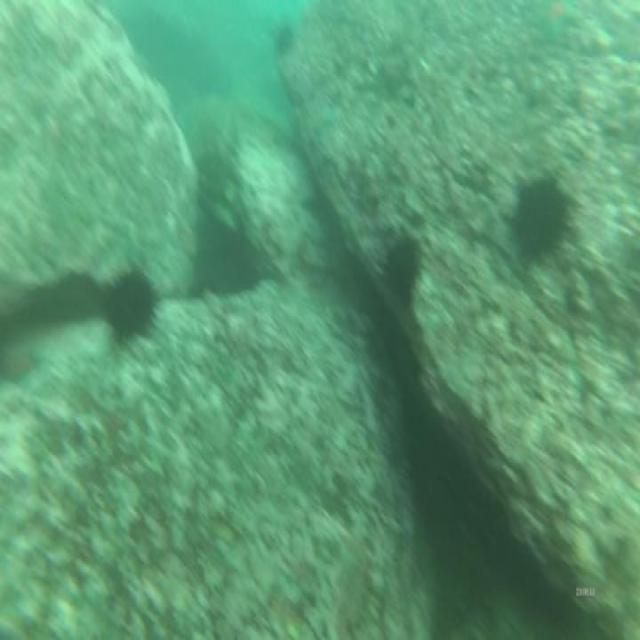echinus: (508, 164, 575, 272), (100, 256, 164, 352), (378, 226, 426, 310)
